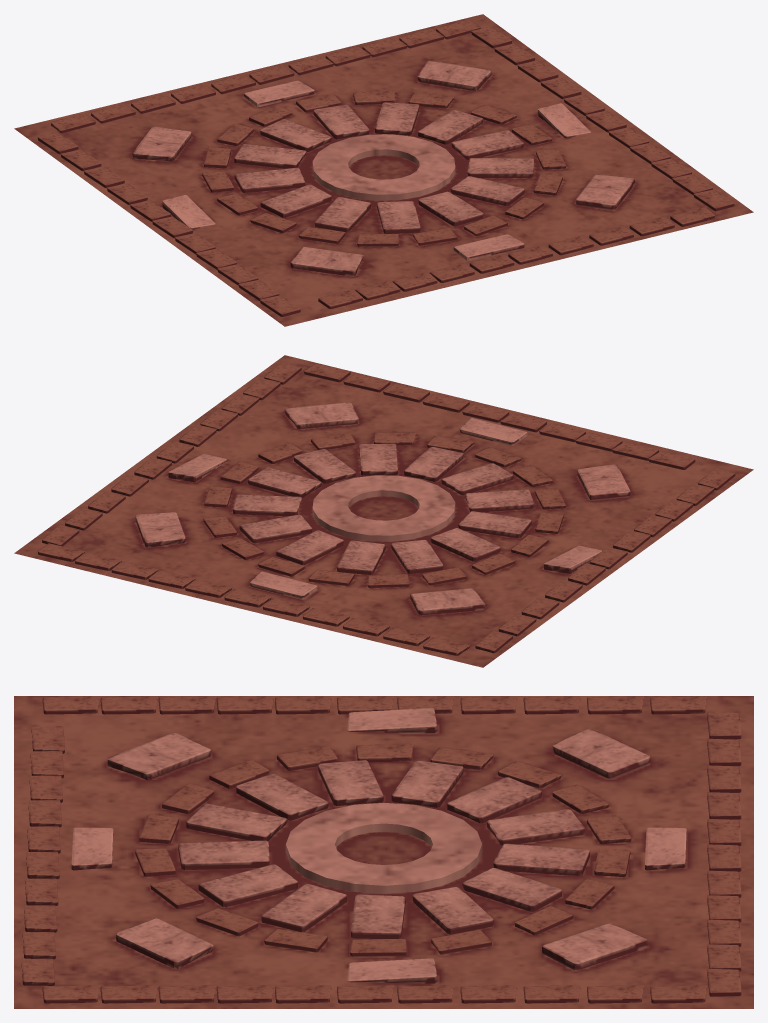
The model's file is Environment_Ground.fbx.
3 renders of one model, top to bottom at view 1: azimuth 30°, elevation 25°; view 2: azimuth 150°, elevation 25°; view 3: azimuth 270°, elevation 25°, orthographic. The views are drawn at different scales.
Parts seen in each view (by area): view 1: polySurface93; view 2: polySurface93; view 3: polySurface93.
Boxes of the visible parts, x1,y1,x2,y2 form: polySurface93: (14, 14, 753, 326); polySurface93: (14, 355, 753, 667); polySurface93: (14, 696, 753, 1008).
Size of the model in its own units: 3393 by 3393 by 87.84.
